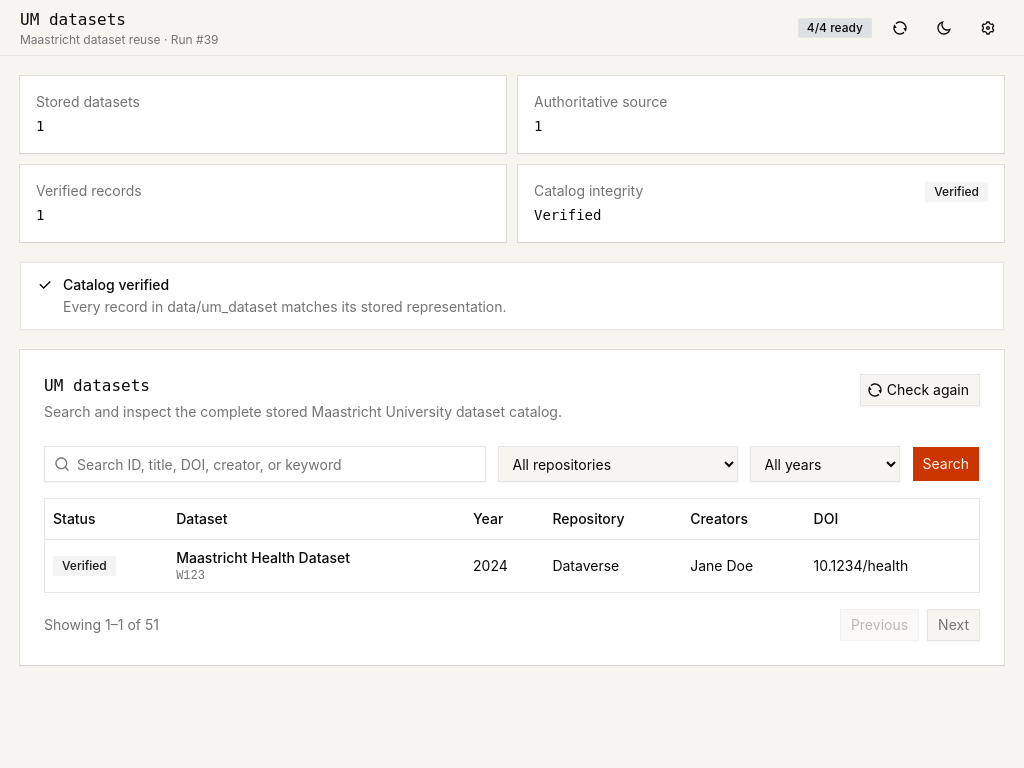
Test: App routed workflow › paginates through the complete UM dataset catalog
Check: the text "Maastricht Health Dataset" is shown, box top-left (176, 548), bottom-right (350, 566)
Click the button "Next". click: (954, 624)
box: top-left (927, 608), bottom-right (980, 640)
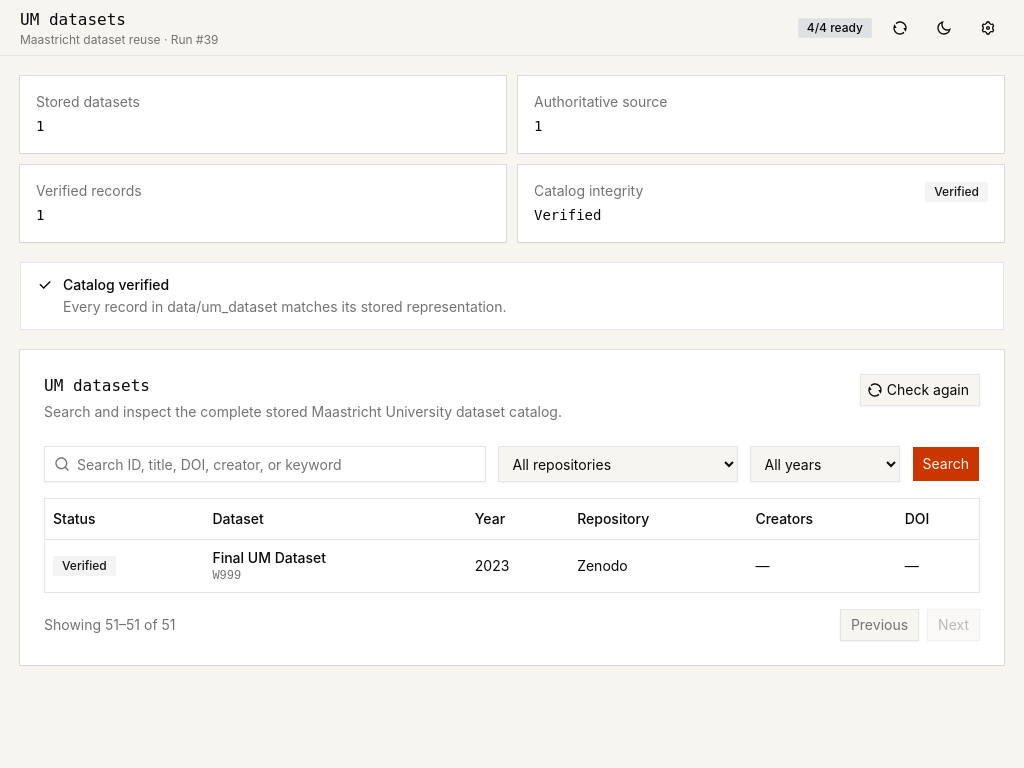
Check: the text "Final UM Dataset" is shown, box top-left (212, 548), bottom-right (326, 566)
Check: the text "Showing 51–51 of 51" is shown, box top-left (44, 614), bottom-right (176, 634)
